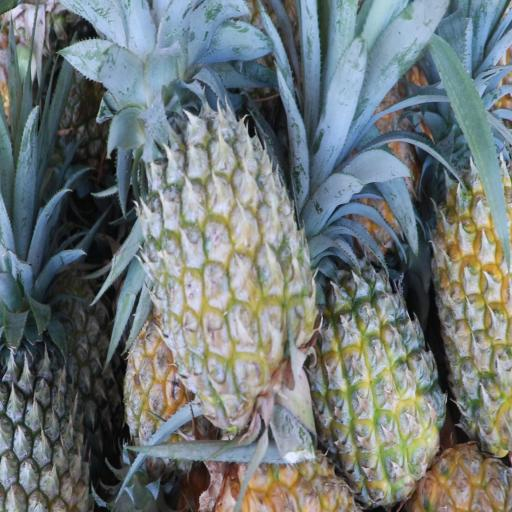------------------------------: (152, 106, 310, 410)
Pineapple - v8 v1: (314, 264, 443, 500), (433, 171, 512, 442)
